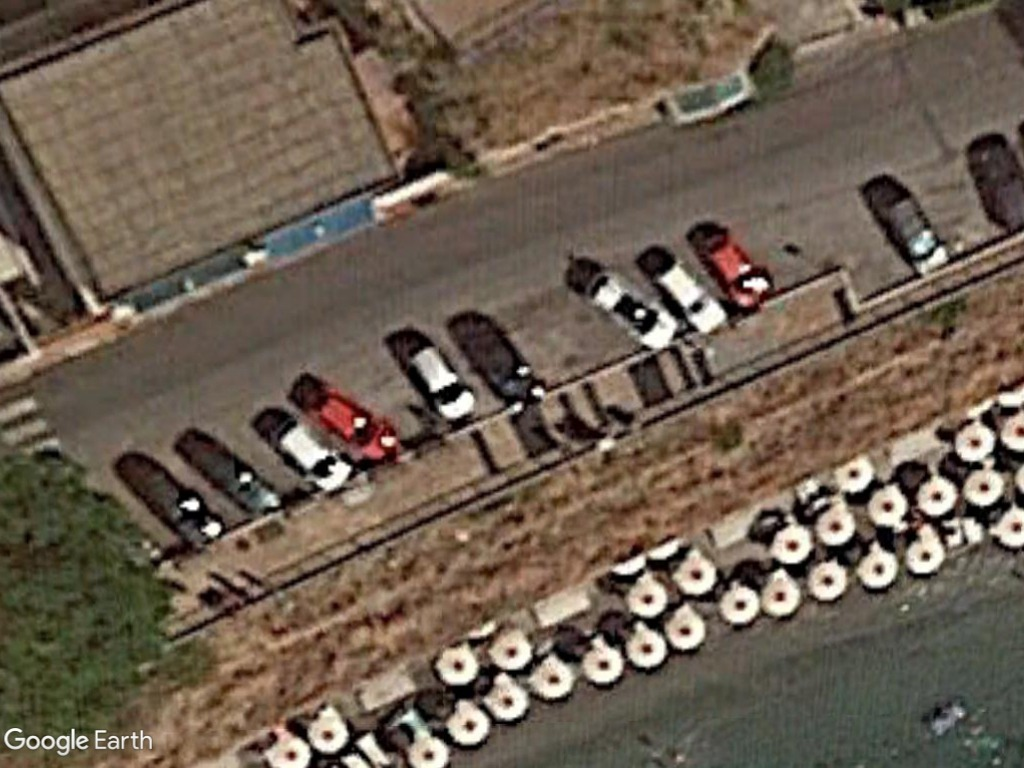car: (578, 273, 681, 355), (264, 418, 357, 494), (404, 343, 478, 423)
